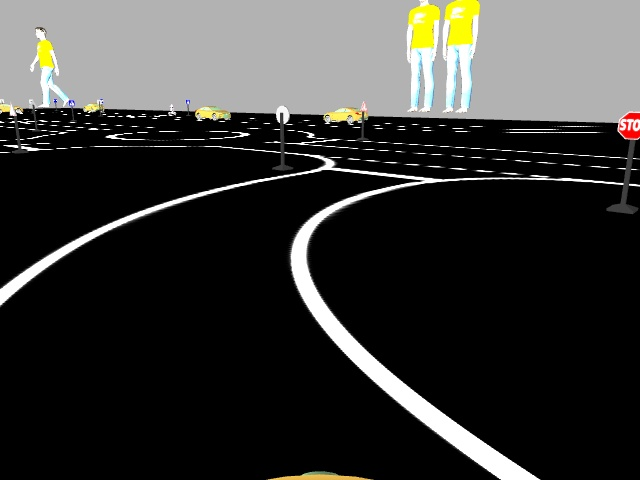Stop: (616, 110, 639, 141)
